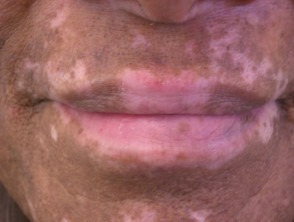Melasma: (17, 31, 294, 222)
